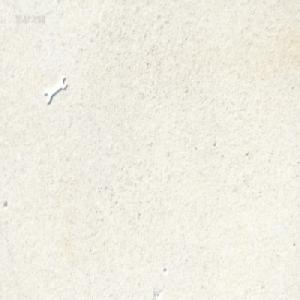Wrench: (44, 74, 67, 105)
